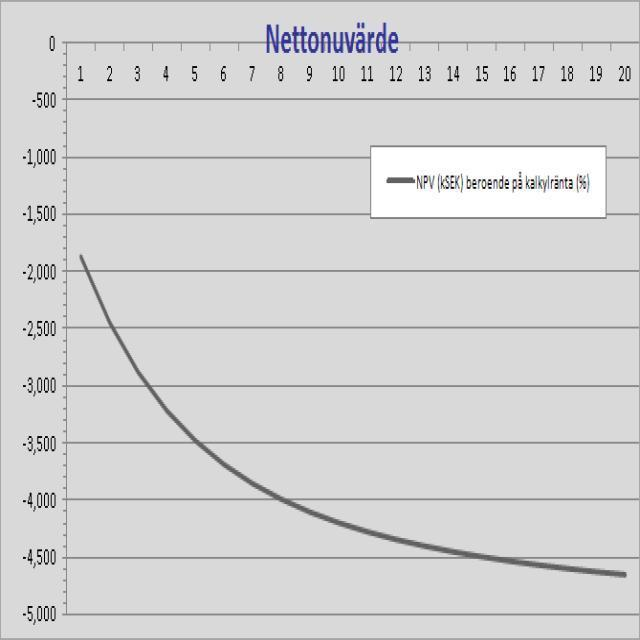axis: (58, 35, 73, 620), (60, 609, 640, 618)
line: (74, 252, 628, 580)
